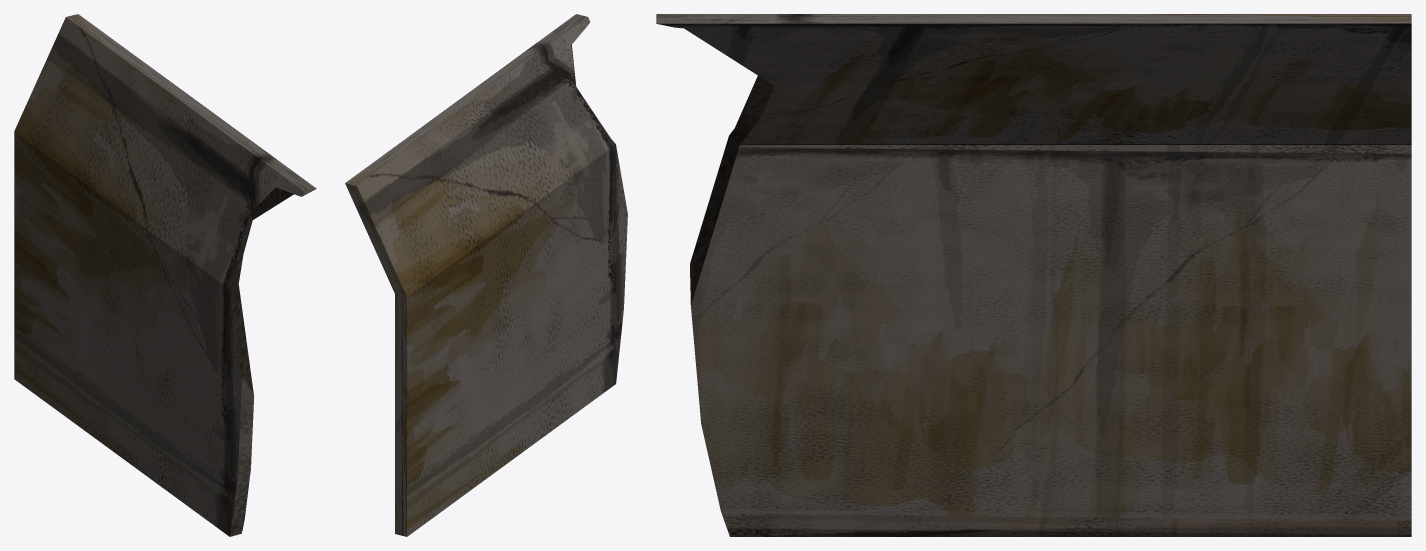
Rendered from SM_subdpwall1.fbx.
3 renders of one model, left to right at view 1: azimuth 30°, elevation 25°; view 2: azimuth 150°, elevation 25°; view 3: azimuth 270°, elevation 25°, orthographic. The views are drawn at different scales.
Parts seen in each view (by area): view 1: Cube.019; view 2: Cube.019; view 3: Cube.019.
Part boxes in pixels (box(x1,y1,x2,y2)): Cube.019: box(14, 14, 316, 536); Cube.019: box(345, 14, 627, 536); Cube.019: box(656, 14, 1411, 536).
Size of the model in its own units: 116 by 605 by 748.
